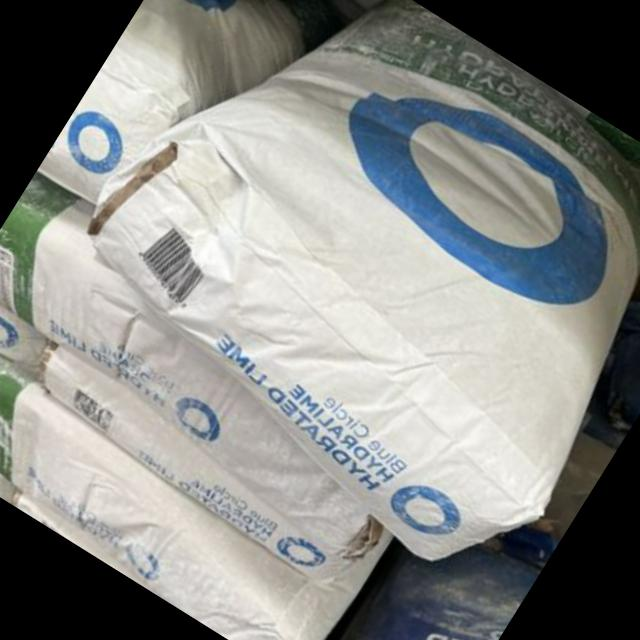KantongSemen: (28, 0, 640, 604)
